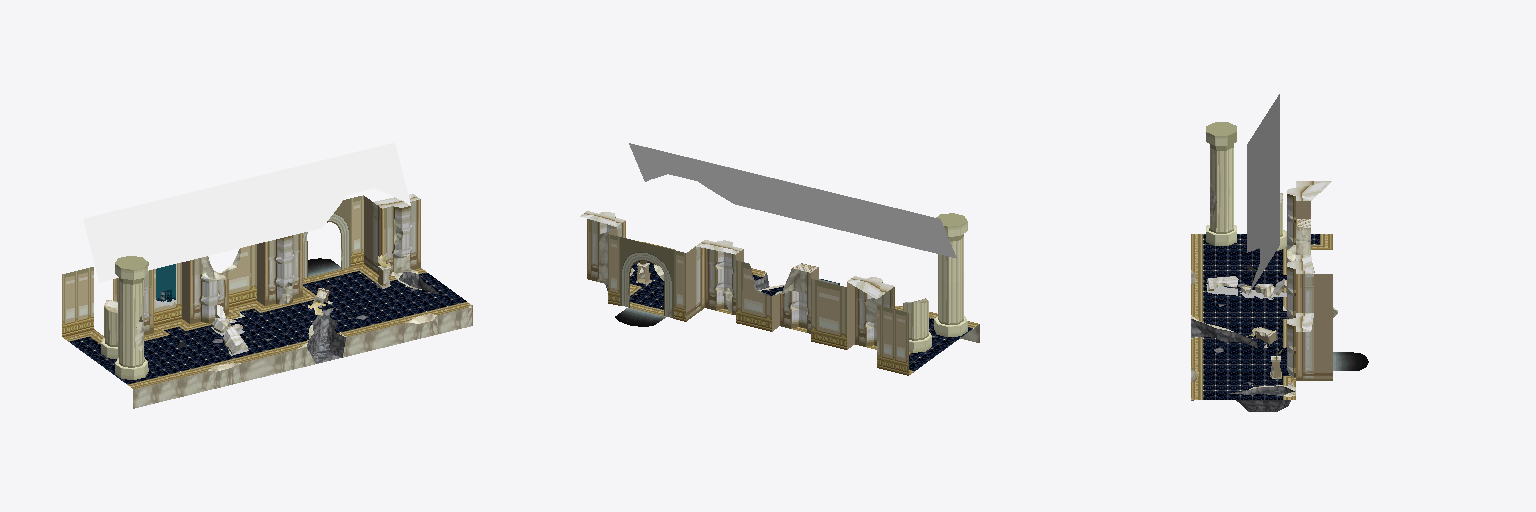
3 views of the same model, side by side, from view 1: azimuth 30°, elevation 25°; view 2: azimuth 150°, elevation 25°; view 3: azimuth 270°, elevation 25° (orthographic).
Visible parts, largest first — view 1: in39_ray03_lay0_QUADS_VisGroup0, n_yuka1_lay0_QUADS_VisGroup0, n_kabe3_lay0_QUADS_VisGroup0, in39_yuka3_lay0_QUADS_VisGroup0, n_kabe_lay0_QUADS_VisGroup0, n_fuch3_lay0_QUADS_VisGroup0, n_colum_a_lay0_QUADS_VisGroup0, n_yuka1_lay0_TRIS_VisGroup0, in39_yuka3_lay0_TRIS_VisGroup0, n_kabe3_lay0_TRIS_VisGroup0, in39_gare01_lay0_QUADS_VisGroup0, n_colum_a_lay0_TRIS_VisGroup0 (+2 smaller); view 2: in39_ray03_lay0_QUADS_VisGroup0, n_kabe3_lay0_QUADS_VisGroup0, n_kabe_lay0_QUADS_VisGroup0, n_colum_a_lay0_QUADS_VisGroup0, n_yuka1_lay0_QUADS_VisGroup0, n_kabe3_lay0_TRIS_VisGroup0, n_kabe2_lay0_QUADS_VisGroup0, in39_yuka3_lay0_QUADS_VisGroup0, n_fuch3_lay0_QUADS_VisGroup0, n_mado_lay0_QUADS_VisGroup0, n_kabe2_lay0_TRIS_VisGroup0, in39_yuka3_lay0_TRIS_VisGroup0 (+1 smaller); view 3: n_yuka1_lay0_QUADS_VisGroup0, n_kabe3_lay0_QUADS_VisGroup0, in39_ray03_lay0_QUADS_VisGroup0, n_colum_a_lay0_QUADS_VisGroup0, n_yuka1_lay0_TRIS_VisGroup0, n_fuch3_lay0_QUADS_VisGroup0, in39_gare01_lay0_QUADS_VisGroup0, n_kabe3_lay0_TRIS_VisGroup0, in39_yuka3_lay0_TRIS_VisGroup0, in39_yuka3_lay0_QUADS_VisGroup0, n_mado_lay0_QUADS_VisGroup0, n_colum_a_lay0_TRIS_VisGroup0.
Part boxes in pixels (x1,y1,x2,y2): in39_ray03_lay0_QUADS_VisGroup0: (83,143,410,282); n_yuka1_lay0_QUADS_VisGroup0: (70,271,466,384); n_kabe3_lay0_QUADS_VisGroup0: (113,194,472,353); in39_yuka3_lay0_QUADS_VisGroup0: (133,220,471,408); n_kabe_lay0_QUADS_VisGroup0: (62,195,363,336); n_fuch3_lay0_QUADS_VisGroup0: (63,264,469,388); n_colum_a_lay0_QUADS_VisGroup0: (101,262,148,379); n_yuka1_lay0_TRIS_VisGroup0: (262,275,437,339); in39_yuka3_lay0_TRIS_VisGroup0: (135,219,472,371); n_kabe3_lay0_TRIS_VisGroup0: (113,194,419,346); in39_gare01_lay0_QUADS_VisGroup0: (307,272,439,363); n_colum_a_lay0_TRIS_VisGroup0: (115,256,147,369); in39_ray03_lay0_QUADS_VisGroup0: (629,143,956,258); n_kabe3_lay0_QUADS_VisGroup0: (580,212,894,349); n_kabe_lay0_QUADS_VisGroup0: (608,234,908,375); n_colum_a_lay0_QUADS_VisGroup0: (903,221,967,352); n_yuka1_lay0_QUADS_VisGroup0: (630,261,973,370); n_kabe3_lay0_TRIS_VisGroup0: (581,211,894,329); n_kabe2_lay0_QUADS_VisGroup0: (620,237,673,309); in39_yuka3_lay0_QUADS_VisGroup0: (596,231,979,342); n_fuch3_lay0_QUADS_VisGroup0: (630,242,978,374); n_mado_lay0_QUADS_VisGroup0: (615,307,665,326); n_kabe2_lay0_TRIS_VisGroup0: (620,237,673,318); in39_yuka3_lay0_TRIS_VisGroup0: (597,235,881,303); n_yuka1_lay0_QUADS_VisGroup0: (1203,234,1319,399); n_kabe3_lay0_QUADS_VisGroup0: (1208,181,1332,380); in39_ray03_lay0_QUADS_VisGroup0: (1247,94,1279,294); n_colum_a_lay0_QUADS_VisGroup0: (1206,132,1286,250); n_yuka1_lay0_TRIS_VisGroup0: (1203,319,1282,395); n_fuch3_lay0_QUADS_VisGroup0: (1191,234,1332,399); in39_gare01_lay0_QUADS_VisGroup0: (1191,319,1294,411); n_kabe3_lay0_TRIS_VisGroup0: (1219,181,1332,380); in39_yuka3_lay0_TRIS_VisGroup0: (1191,182,1337,400); in39_yuka3_lay0_QUADS_VisGroup0: (1191,227,1337,387); n_mado_lay0_QUADS_VisGroup0: (1333,352,1368,370); n_colum_a_lay0_TRIS_VisGroup0: (1206,122,1236,230).
Bounding box in the file's own units: 518 × 227 × 231.
20 materials, 19 textured.